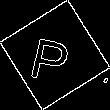P_N: (31, 26, 79, 84)
